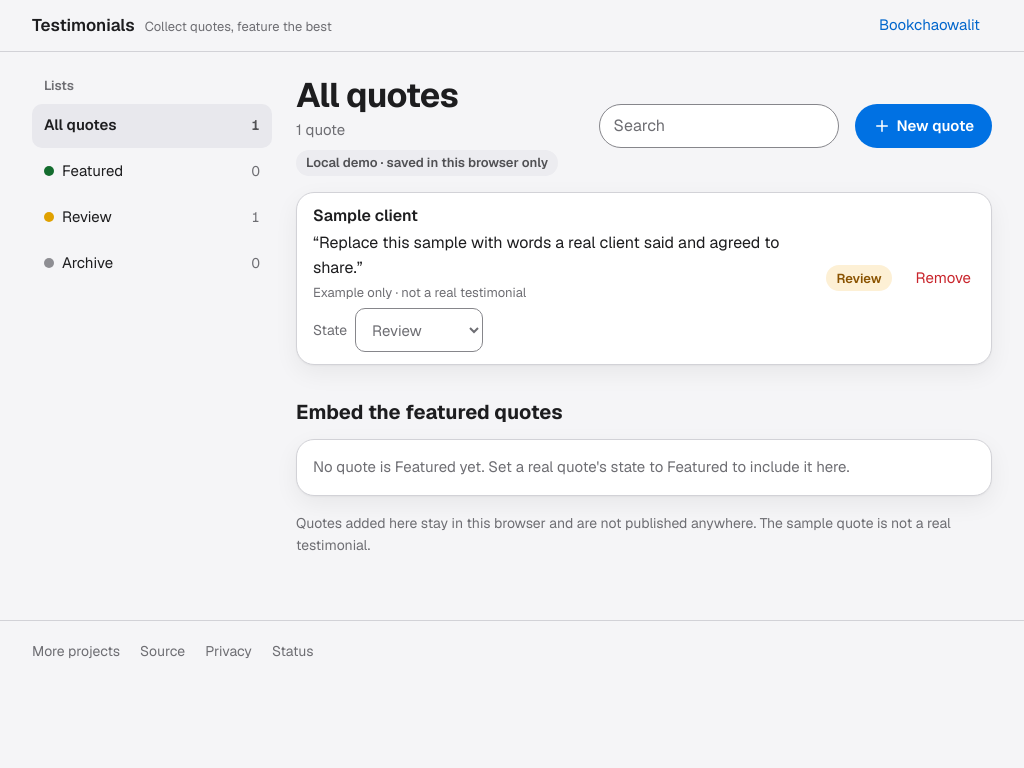
Test: lists, search, state and remove › Escape closes the toast
This screenshot has width=1024, height=768.
Click the button "Remove".
click(943, 278)  # box [904, 256, 983, 300]
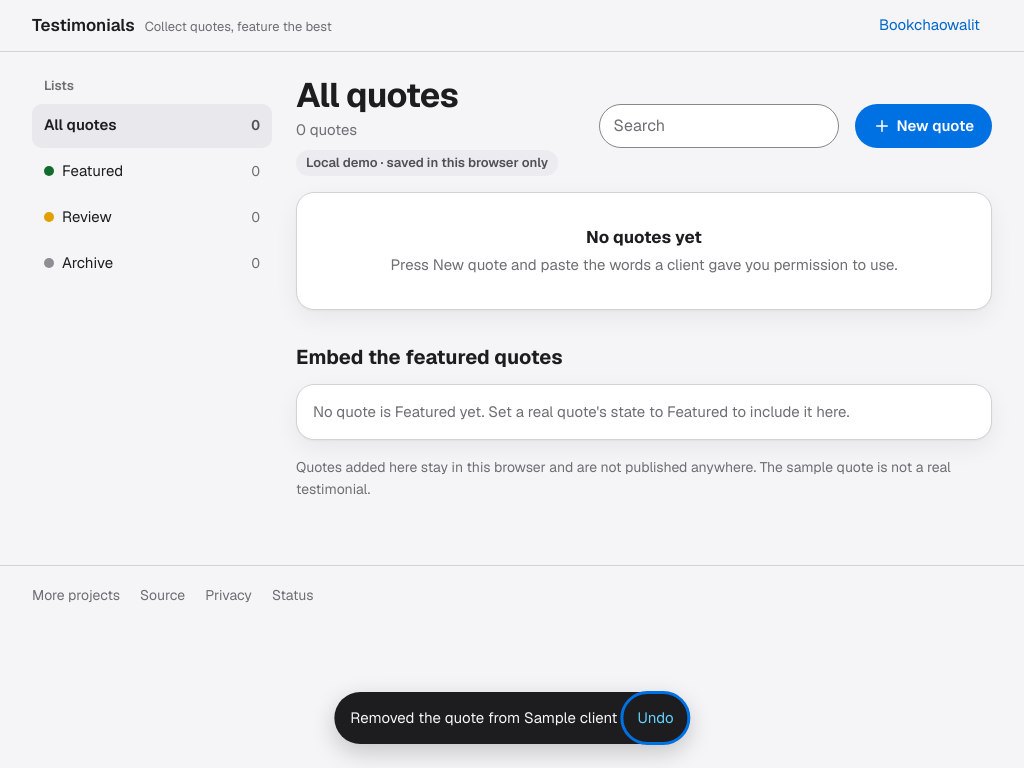
Press Escape in the element with class "as-toast", box [334, 692, 690, 744]
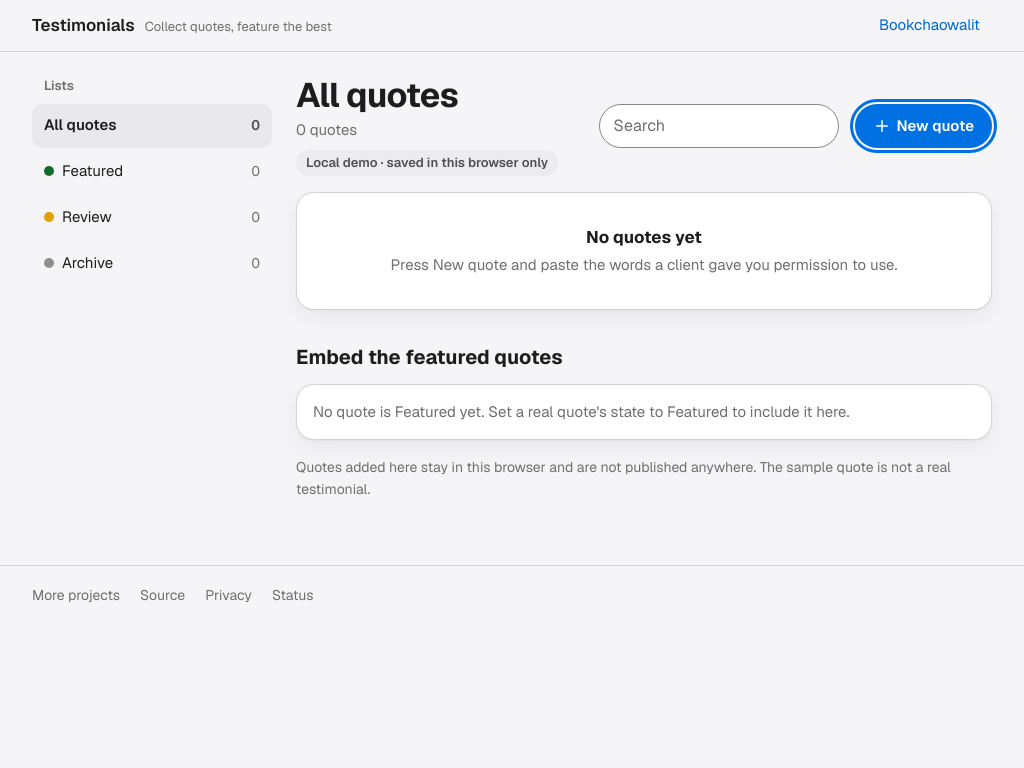
Result: the element with class "as-toast" is gone
